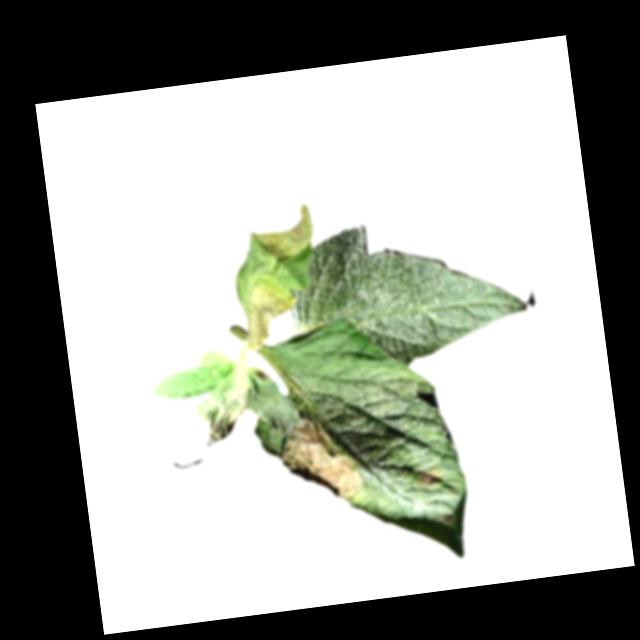Late_blight: (191, 359, 304, 448), (276, 403, 364, 506), (241, 203, 319, 277), (237, 272, 300, 353), (412, 464, 442, 490)
